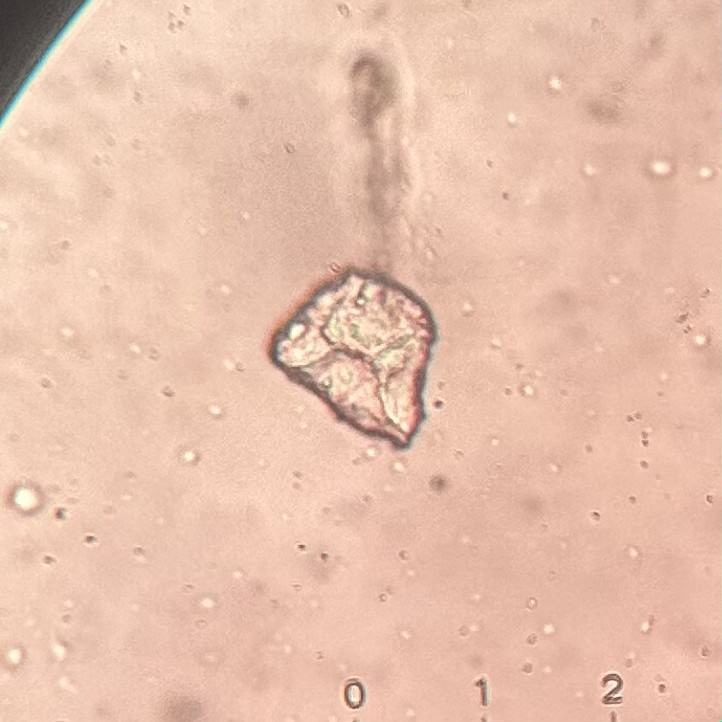microplastic: (264, 268, 438, 442), (332, 41, 430, 227), (6, 483, 52, 520)
